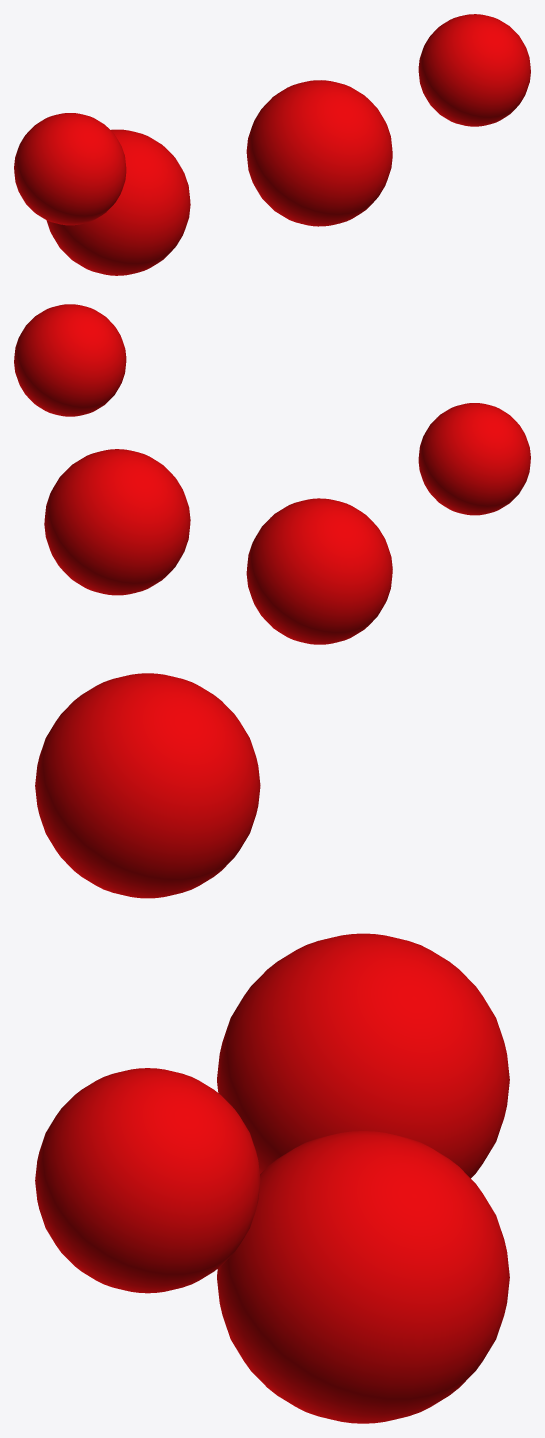
Rendered from spiderEyes.fbx.
3 renders of one model, top to bottom at view 1: azimuth 30°, elevation 25°; view 2: azimuth 150°, elevation 25°; view 3: azimuth 270°, elevation 25°, orthographic. The views are drawn at different scales.
Visible parts, largest first — view 1: Eye.001, Eye.003, Eye.004, Eye.002; view 2: Eye.001, Eye.003, Eye.002, Eye.004; view 3: Eye.001, Eye.003, Eye.002, Eye.004.
Boxes of the visible parts, x1,y1,x2,y2 form: Eye.001: [246, 80, 392, 226]; Eye.003: [46, 129, 190, 275]; Eye.004: [14, 113, 126, 225]; Eye.002: [418, 14, 530, 126]; Eye.001: [44, 449, 190, 595]; Eye.003: [246, 498, 392, 644]; Eye.002: [14, 304, 126, 416]; Eye.004: [418, 403, 530, 515]; Eye.001: [217, 1131, 509, 1423]; Eye.003: [217, 933, 509, 1178]; Eye.002: [35, 1068, 260, 1293]; Eye.004: [35, 673, 260, 898].
Size of the model in its own units: 16.14 by 6.61 by 6.61.
